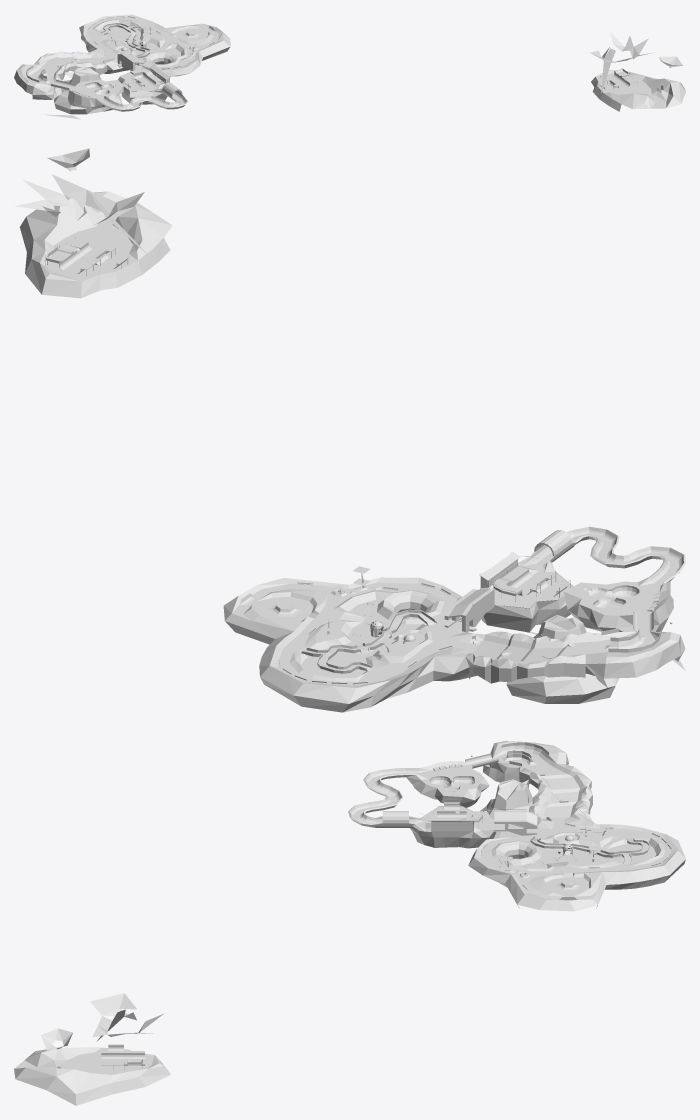
Rendered from t2_hvn.glb.
3 renders of one model, top to bottom at view 1: azimuth 30°, elevation 25°; view 2: azimuth 150°, elevation 25°; view 3: azimuth 270°, elevation 25°, orthographic. The views are drawn at different scales.
Visible parts, largest first — view 1: SKHVN_Col_Floor, SKHVN_Col_Pipe, SKHVN_Col_Wall, SKHVN_Col_Ride; view 2: SKHVN_Col_Floor, SKHVN_Col_Pipe, SKHVN_Col_Wall, SKHVN_Col_Ride; view 3: SKHVN_Col_Floor, SKHVN_Col_Pipe, SKHVN_Col_Wall, SKHVN_Col_Ride.
Part boxes in pixels (x1,y1,x2,y2): SKHVN_Col_Floor: (14,14,685,119); SKHVN_Col_Pipe: (26,19,636,111); SKHVN_Col_Wall: (14,16,663,113); SKHVN_Col_Ride: (101,23,149,64); SKHVN_Col_Floor: (14,148,685,711); SKHVN_Col_Pipe: (40,239,685,684); SKHVN_Col_Wall: (45,206,680,712); SKHVN_Col_Ride: (302,610,460,673); SKHVN_Col_Floor: (14,741,685,1105); SKHVN_Col_Pipe: (90,744,665,1072); SKHVN_Col_Wall: (57,742,671,1070); SKHVN_Col_Ride: (530,836,649,862).
Bounding box in the file's own units: 656 × 80.88 × 540.
Materials: 11 (9 with a texture image).
